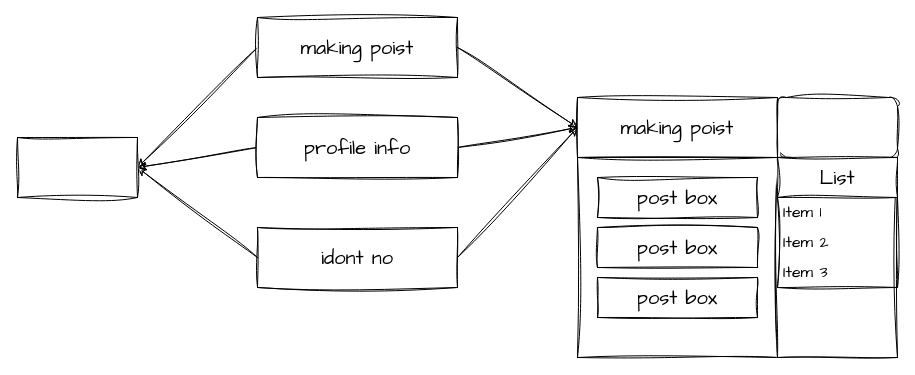
Some shapes in this 915 by 375 pixel diagram are drawn without their labels. The centre of each missing label's shape, as x and y in pixels:
"button click event" belongs at (x=77, y=167).
"user" belongs at (x=837, y=127).
